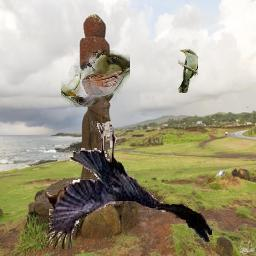Crow: (44, 121, 213, 251)
Cuckoo: (62, 51, 131, 108), (178, 49, 198, 93)
